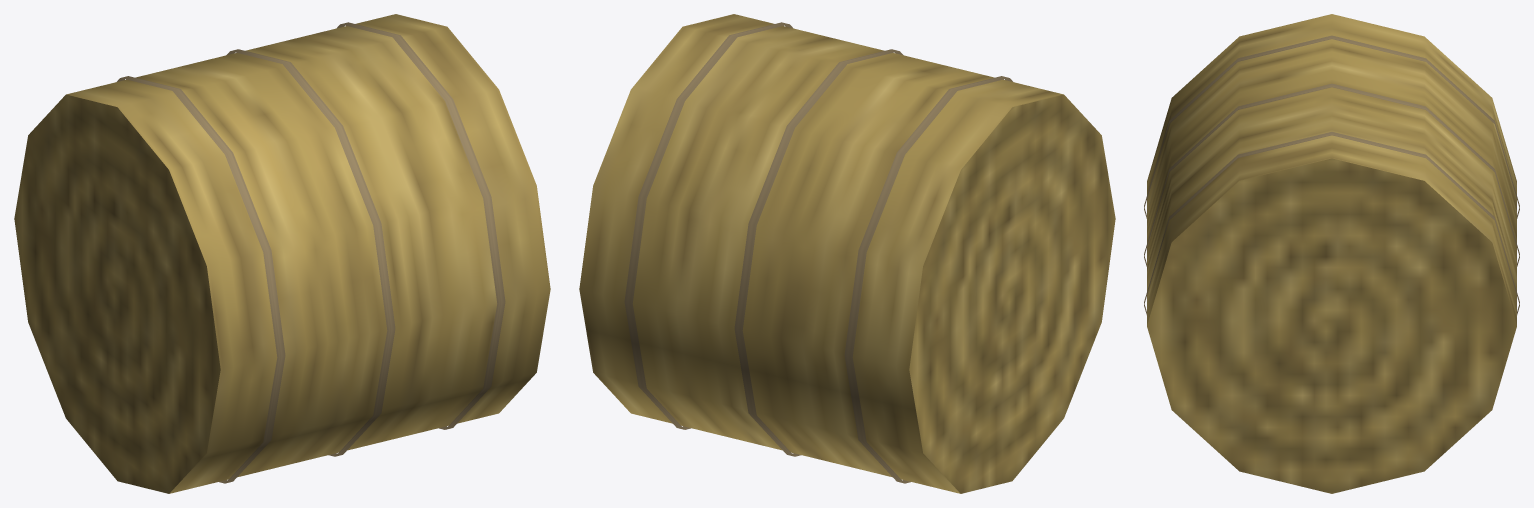
File: hay_bale_round.fbx
3 views of the same model, side by side, from view 1: azimuth 30°, elevation 25°; view 2: azimuth 150°, elevation 25°; view 3: azimuth 270°, elevation 25° (orthographic). The views are drawn at different scales.
Visible parts, largest first — view 1: hay_bale_round; view 2: hay_bale_round; view 3: hay_bale_round.
Part boxes in pixels (x1,y1,x2,y2): hay_bale_round: (14,14,550,493); hay_bale_round: (579,14,1115,493); hay_bale_round: (1144,14,1519,493).
Size of the model in its own units: 1.2 by 1.32 by 1.32.
1 material, 1 textured.
